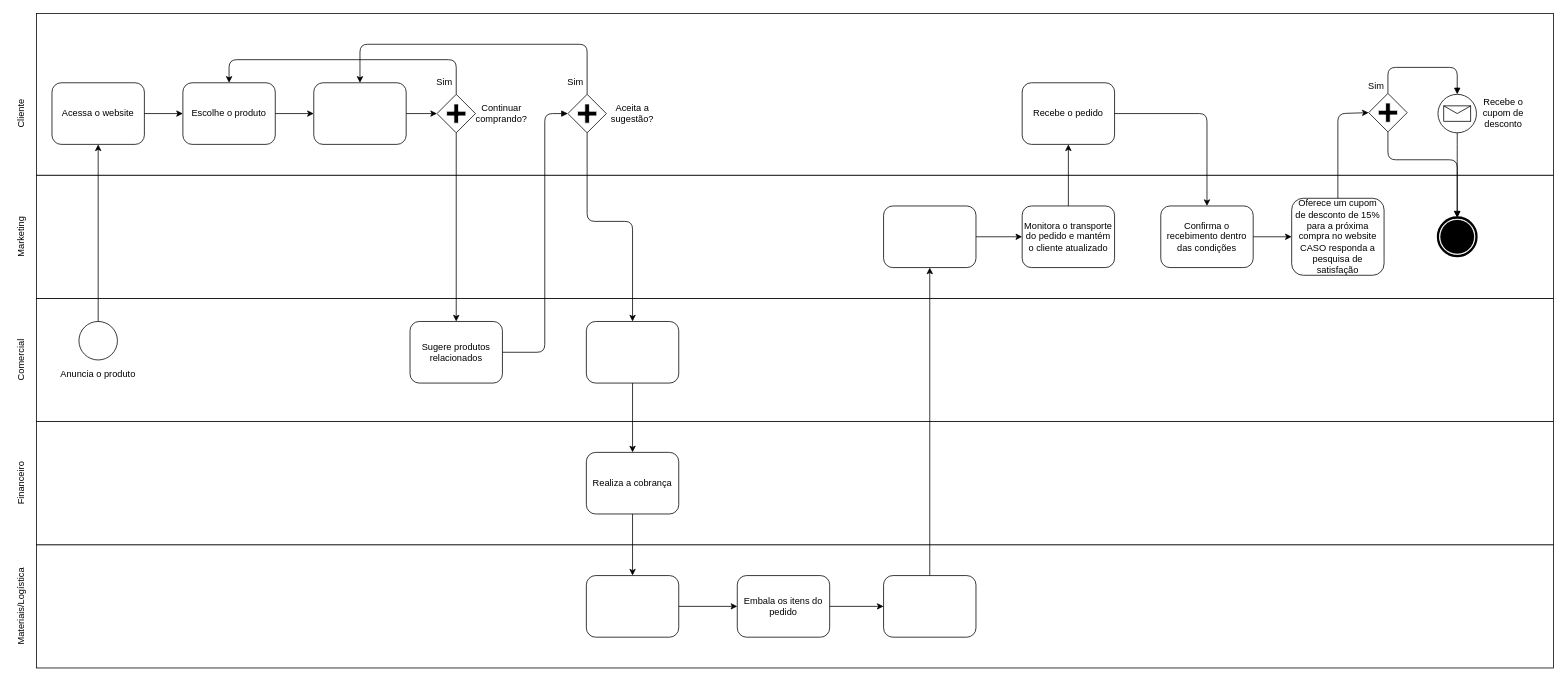
This 1567x681 diagram has some shape labels left out. The shapes that lost their labels are listed below. From the top down, each one's centre as x and y in pixels, then its label:
the point at 359,113: Adiciona o produto no carrinho
the point at 929,236: Avisa o cliente do despacho
the point at 632,352: Fecha o pedido
the point at 632,606: Separa os itens do pedido
the point at 929,606: Entrega o pacote à transportadora
